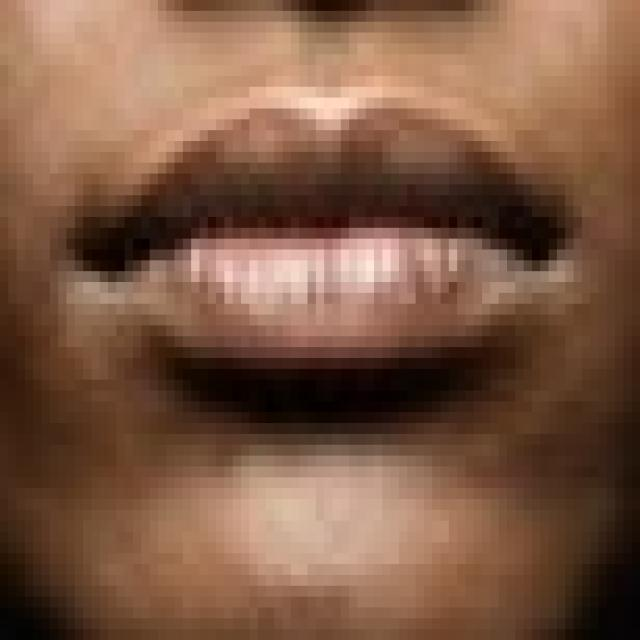closed-mouth: (58, 76, 582, 390)
